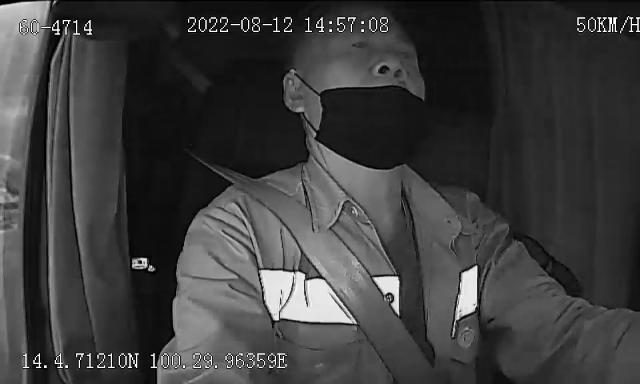SafeDriving: (366, 54, 410, 82)
Seatbelt: (187, 146, 435, 384)
